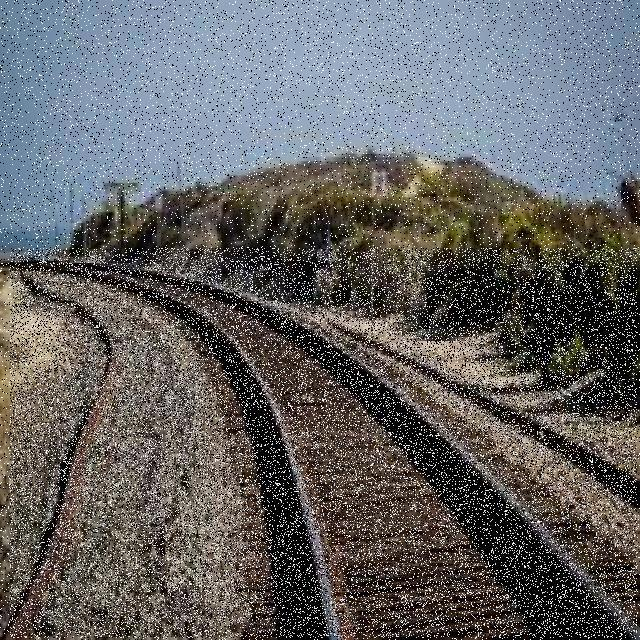rail: (11, 248, 637, 638)
